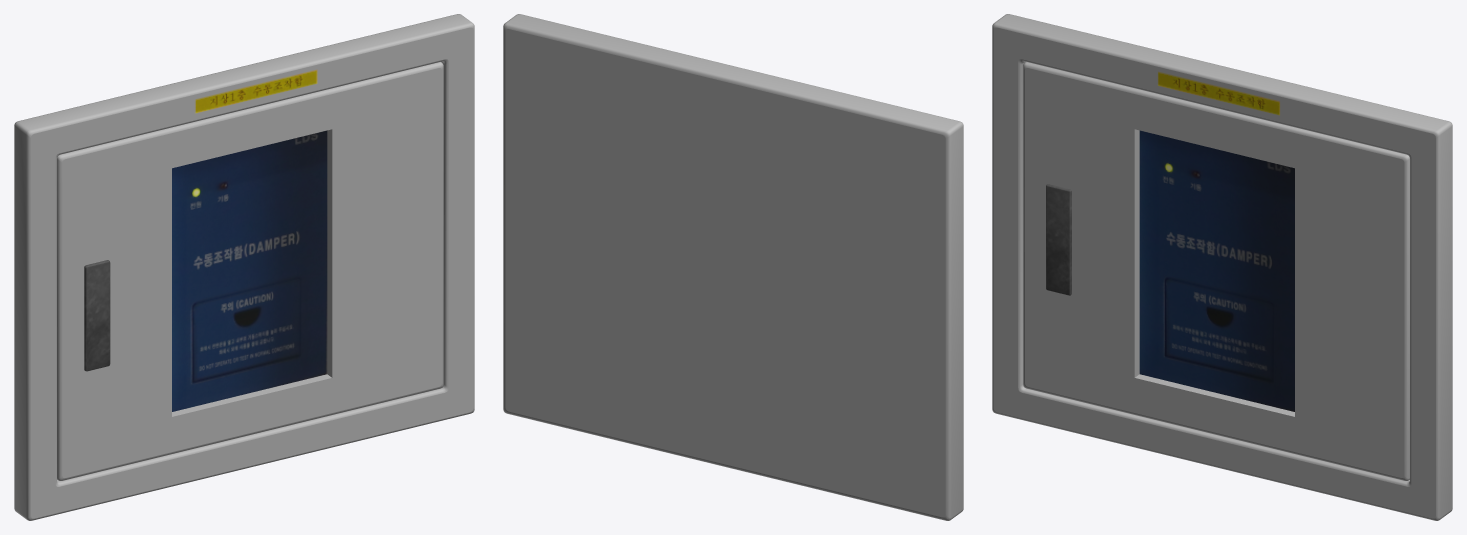
File: LC_3022_FiredoorBox_LOD3.FBX
The picture shows the model from 3 angles, left to right: view 1: azimuth 30°, elevation 25°; view 2: azimuth 150°, elevation 25°; view 3: azimuth 330°, elevation 25°; orthographic projection.
Parts seen in each view (by area): view 1: LC_3022_FiredoorBox_LOD3; view 2: LC_3022_FiredoorBox_LOD3; view 3: LC_3022_FiredoorBox_LOD3.
Boxes of the visible parts, bbox=[...] form: LC_3022_FiredoorBox_LOD3: bbox=[14, 14, 474, 520]; LC_3022_FiredoorBox_LOD3: bbox=[503, 14, 963, 520]; LC_3022_FiredoorBox_LOD3: bbox=[992, 14, 1452, 520].
Size of the model in its own units: 36 by 30 by 2.38.
Materials: 1 (1 with a texture image).
